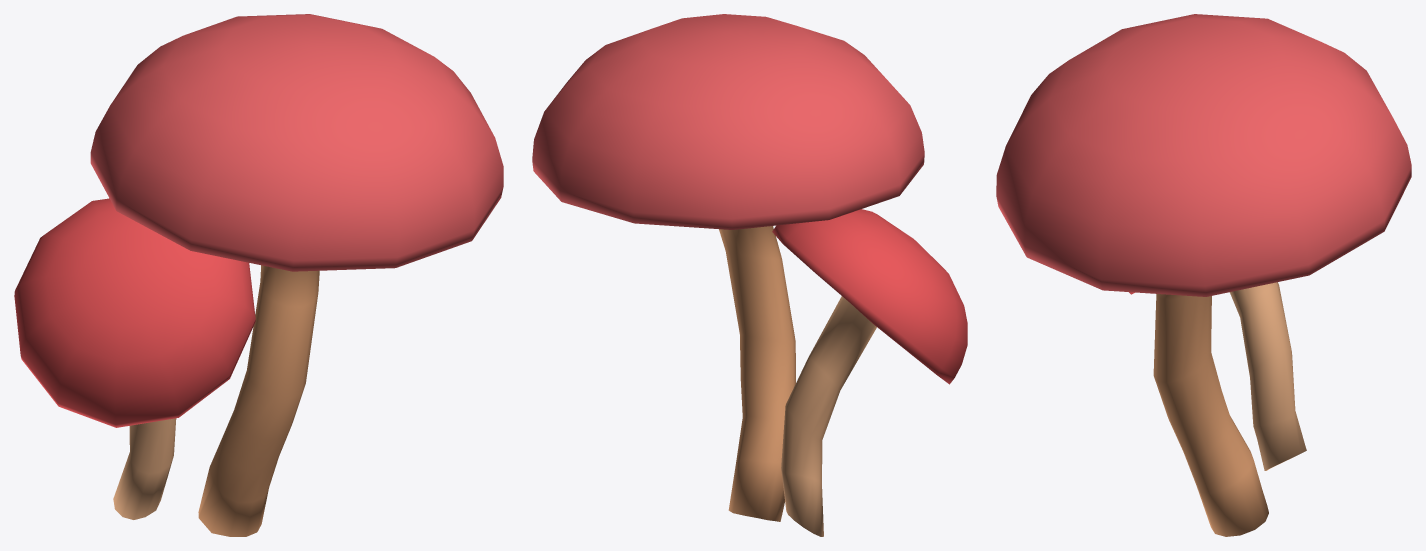
File: MushroomSet4.fbx
3 renders of one model, left to right at view 1: azimuth 30°, elevation 25°; view 2: azimuth 150°, elevation 25°; view 3: azimuth 270°, elevation 25°, orthographic. The views are drawn at different scales.
Visible parts, largest first — view 1: FunkyMushrooms5; view 2: FunkyMushrooms5; view 3: FunkyMushrooms5.
Part boxes in pixels (<box>): FunkyMushrooms5: <box>14,14,503,536</box>; FunkyMushrooms5: <box>532,14,967,536</box>; FunkyMushrooms5: <box>996,14,1411,536</box>.
Bounding box in the file's own units: 49.79 × 52.71 × 39.69.
